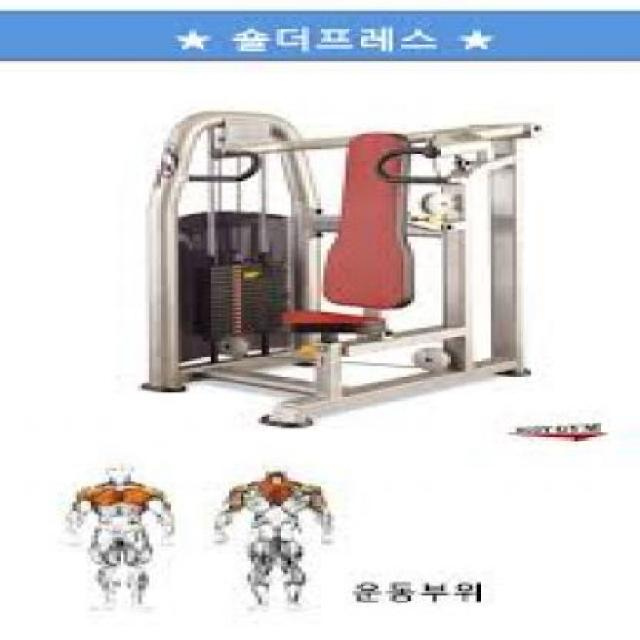shoulder press machine: (126, 97, 557, 443)
